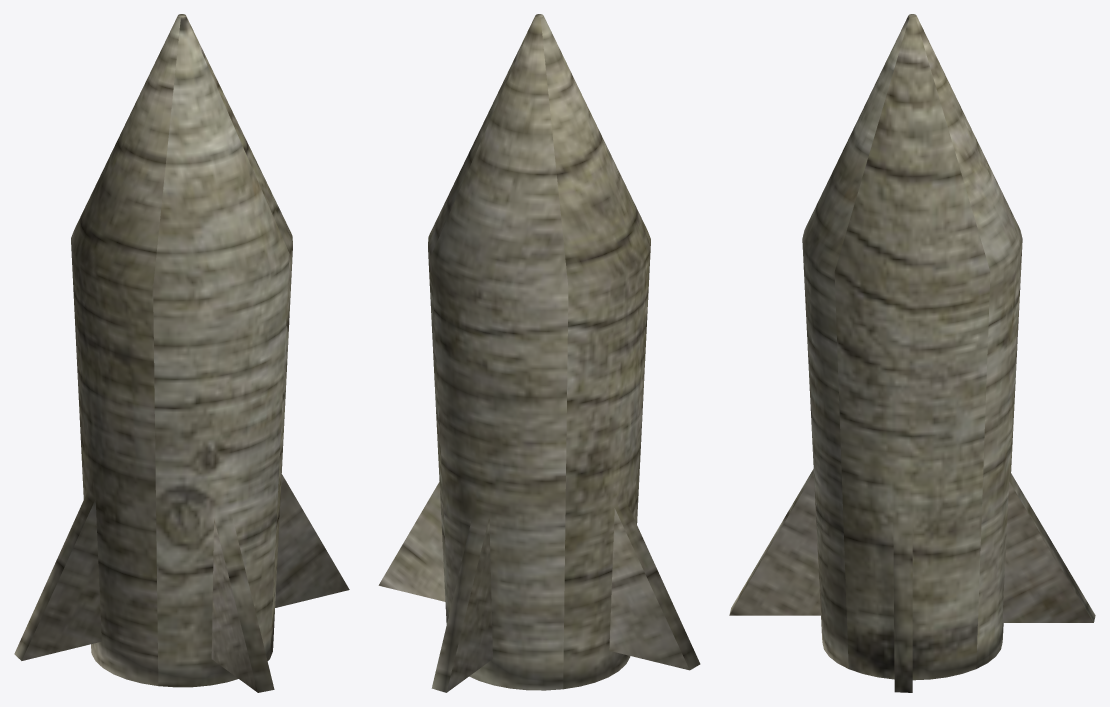
Rendered from Rakete.fbx.
3 views of the same model, side by side, from view 1: azimuth 30°, elevation 25°; view 2: azimuth 150°, elevation 25°; view 3: azimuth 270°, elevation 25° (orthographic).
Parts seen in each view (by area): view 1: Cylinder; view 2: Cylinder; view 3: Cylinder.
Boxes of the visible parts, left/top/right/bottom form: Cylinder: left=14, top=14, right=349, bottom=692; Cylinder: left=378, top=14, right=700, bottom=692; Cylinder: left=729, top=14, right=1095, bottom=692.
Bounding box in the file's own units: 3.32 × 6.27 × 3.32.
1 material, 1 textured.
